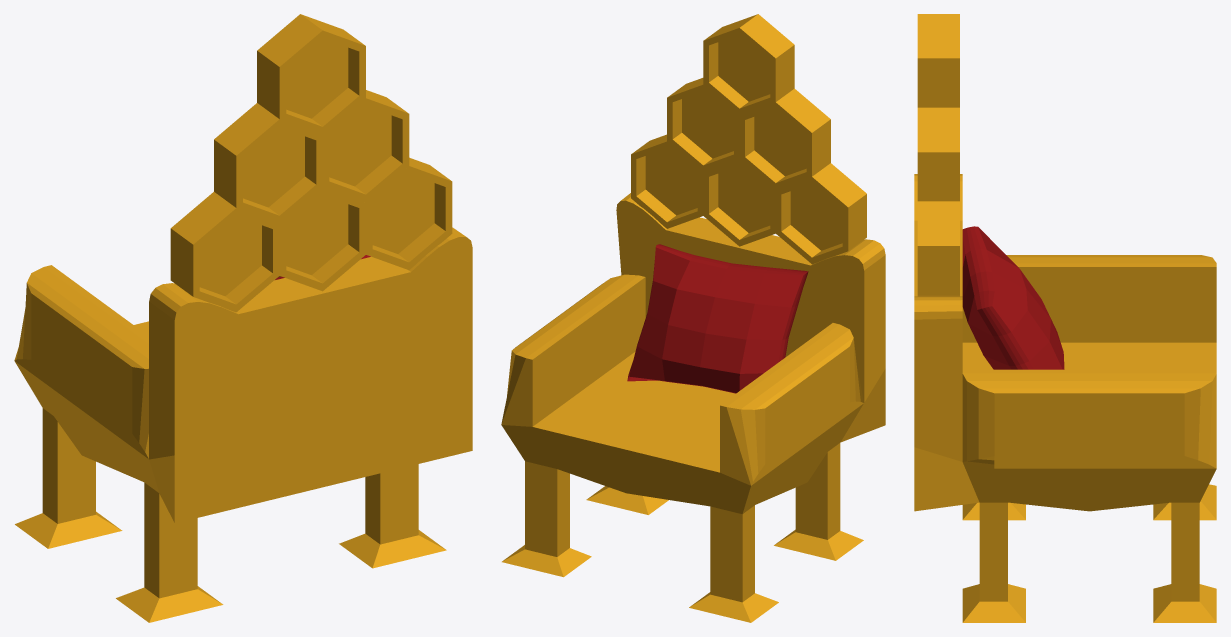
Rendered from trono.fbx.
The picture shows the model from 3 angles, left to right: view 1: azimuth 30°, elevation 25°; view 2: azimuth 150°, elevation 25°; view 3: azimuth 270°, elevation 25°; orthographic projection. The views are drawn at different scales.
Parts seen in each view (by area): view 1: Cube, Cylinder.013, Cylinder.005, Cylinder.007, Cylinder.006, Cylinder.016, Cylinder.004; view 2: Cube, Plane, Cylinder.013, Cylinder.007, Cylinder.005, Cylinder.006, Cylinder.016, Cylinder.004; view 3: Cube, Plane, Cylinder.016, Cylinder.006, Cylinder.013.
Part boxes in pixels (<box>): Cube: <box>14,227,472,622</box>; Cylinder.013: <box>257,14,365,134</box>; Cylinder.005: <box>170,192,279,312</box>; Cylinder.007: <box>214,103,322,223</box>; Cylinder.006: <box>322,90,409,202</box>; Cylinder.016: <box>366,157,452,269</box>; Cylinder.004: <box>279,187,365,291</box>; Cube: <box>501,193,885,622</box>; Plane: <box>627,244,808,393</box>; Cylinder.013: <box>703,14,794,115</box>; Cylinder.007: <box>739,88,830,189</box>; Cylinder.005: <box>775,163,866,264</box>; Cylinder.006: <box>667,78,739,171</box>; Cylinder.016: <box>631,134,703,228</box>; Cylinder.004: <box>703,159,775,246</box>; Cube: <box>914,174,1216,622</box>; Plane: <box>962,226,1064,369</box>; Cylinder.016: <box>917,201,959,296</box>; Cylinder.006: <box>917,107,959,201</box>; Cylinder.013: <box>917,14,959,107</box>.
Bounding box in the file's own units: 915 × 1683 × 854.
